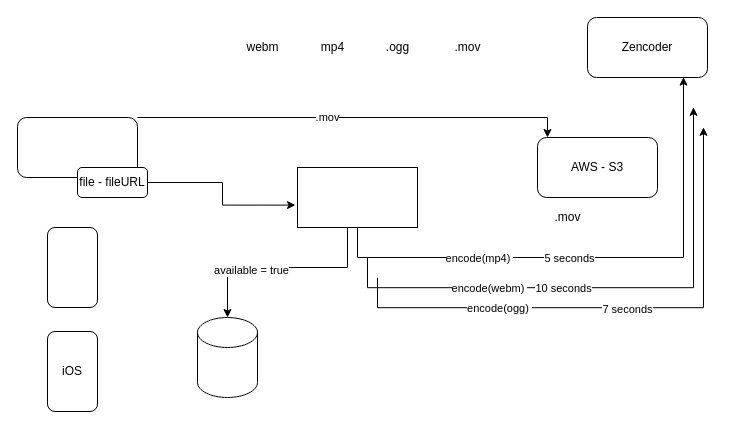
The diagram is 729 pixels wide and 429 high, and some of its shapes have lost their labels. The centre of each missing label's shape, as x and y in pixels:
Application Server: point (357, 197)
windows: point (77, 147)
